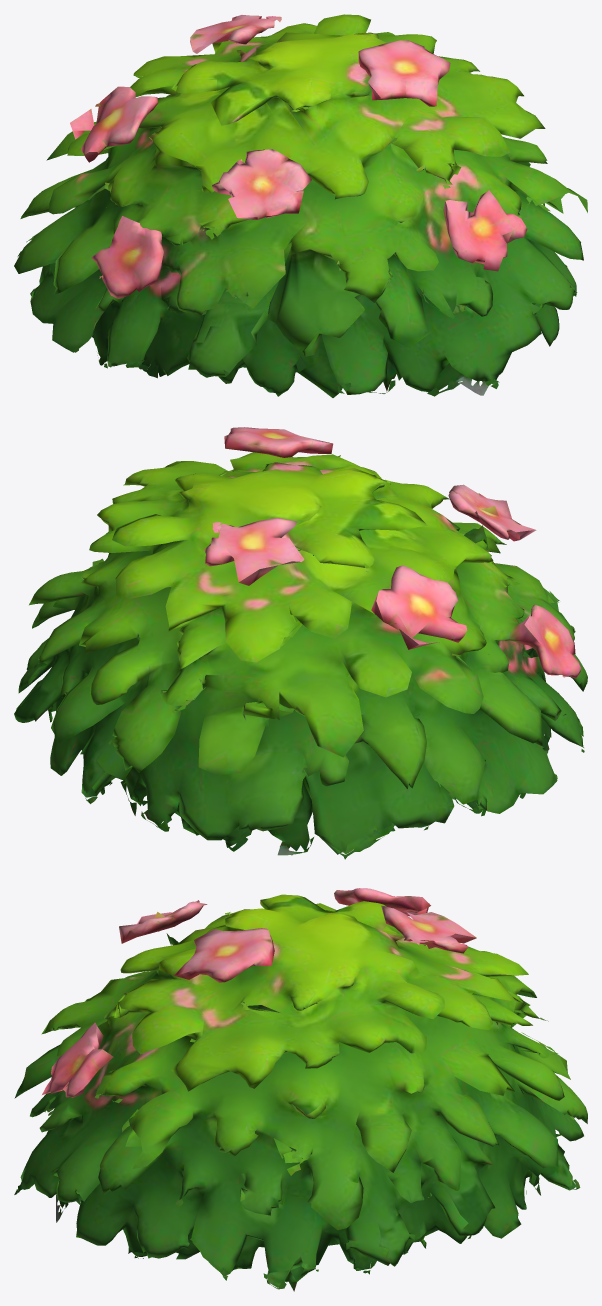
File: bush-2.glb
3 views of the same model, one above another, from view 1: azimuth 30°, elevation 25°; view 2: azimuth 150°, elevation 25°; view 3: azimuth 270°, elevation 25° (orthographic). The views are drawn at different scales.
Visible parts, largest first — view 1: tripo_node_7957c0b1-032b-45e4-8033-cc83650ddb19; view 2: tripo_node_7957c0b1-032b-45e4-8033-cc83650ddb19; view 3: tripo_node_7957c0b1-032b-45e4-8033-cc83650ddb19.
Part boxes in pixels (x1,y1,x2,y2): tripo_node_7957c0b1-032b-45e4-8033-cc83650ddb19: [14, 14, 587, 397]; tripo_node_7957c0b1-032b-45e4-8033-cc83650ddb19: [14, 427, 587, 859]; tripo_node_7957c0b1-032b-45e4-8033-cc83650ddb19: [14, 888, 587, 1291].
Bounding box in the file's own units: 0.9922 × 0.5422 × 0.9879.
1 material, 1 textured.
